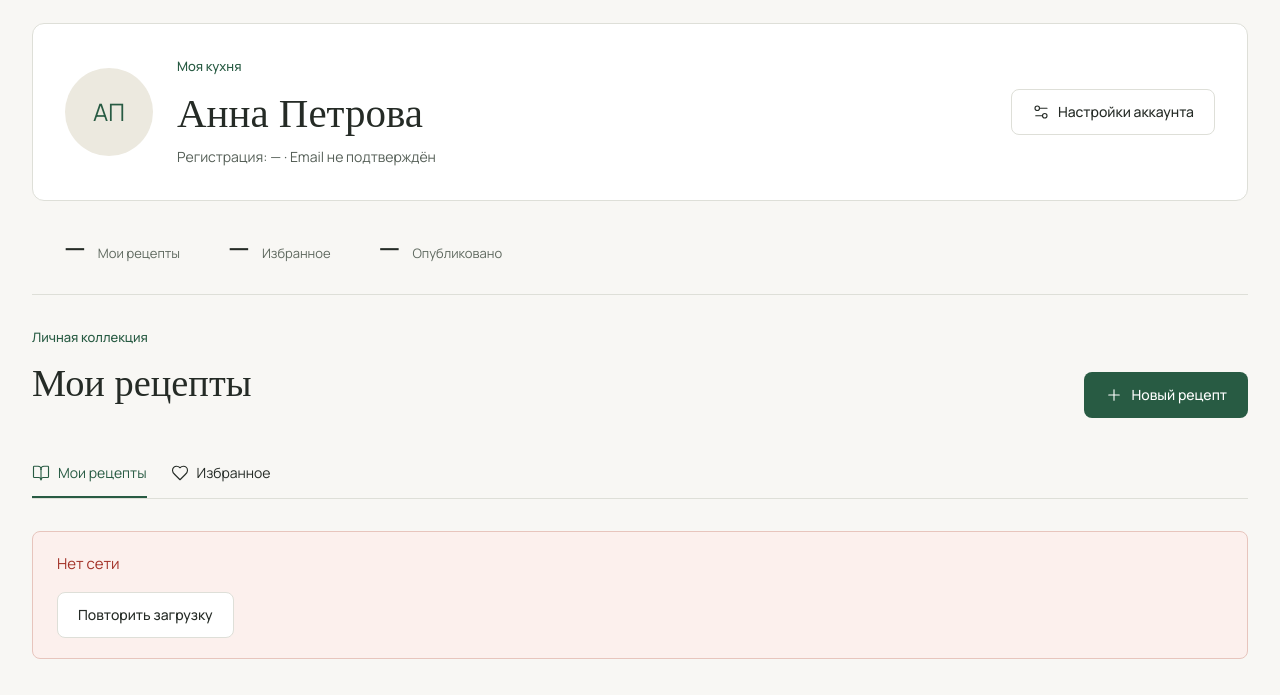
позволяет восстановить список после сетевой ошибки без ложных нулевых счётчиков
This screenshot has width=1280, height=695.
Expected: the message shows "Нет сети", [57,553,120,574]
Expected: the element showing "— Мои рецепты — Избранное — Опубликовано" is shown, [32,201,1248,295]
Click the button "Повторить загрузку" at x=145, y=615, box [57,592,234,638]
(page scrolled)
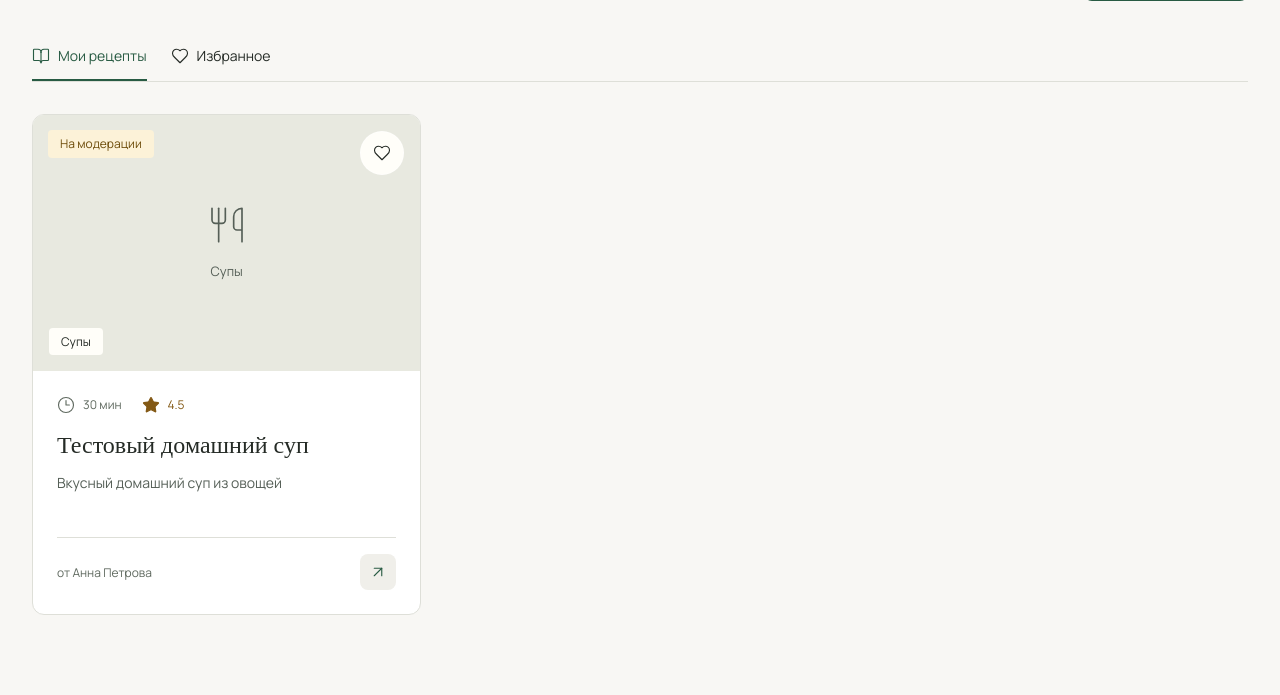
Now the heading "Тестовый домашний суп" is shown, box [57,432,309,458]
Now the message "Нет сети Повторить загрузку" is gone
